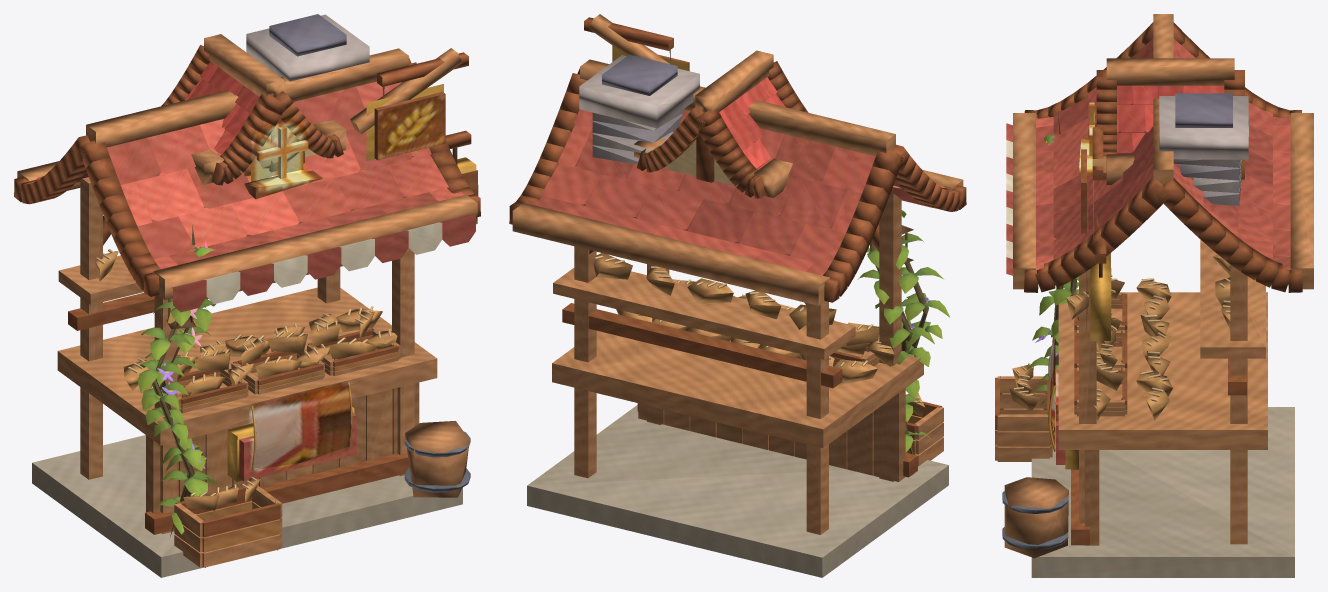
Rendered from stall_bakery.glb.
The picture shows the model from 3 angles, left to right: view 1: azimuth 30°, elevation 25°; view 2: azimuth 150°, elevation 25°; view 3: azimuth 270°, elevation 25°; orthographic projection. The views are drawn at different scales.
Parts seen in each view (by area): view 1: Body; view 2: Body; view 3: Body.
Part boxes in pixels (box(x1,y1,x2,y2)): Body: box(14, 14, 480, 577); Body: box(509, 14, 966, 577); Body: box(995, 14, 1313, 577).
Bounding box in the file's own units: 2.9 × 3.34 × 2.19.
Materials: 1 (1 with a texture image).
